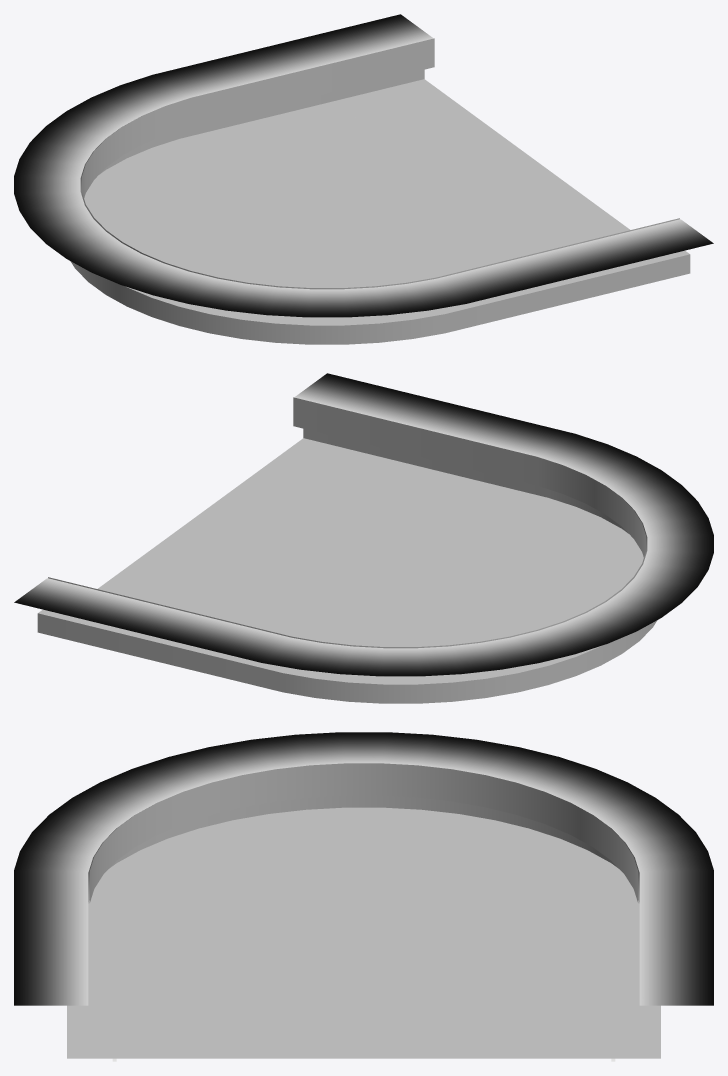
The model's file is CeilingCenter01_2.FBX.
3 views of the same model, one above another, from view 1: azimuth 30°, elevation 25°; view 2: azimuth 150°, elevation 25°; view 3: azimuth 270°, elevation 25° (orthographic). The views are drawn at different scales.
Visible parts, largest first — view 1: Ceiling, Backlight; view 2: Ceiling, Backlight; view 3: Ceiling, Backlight.
Boxes of the visible parts, <box> form: Ceiling: <box>70,38,690,344</box>; Backlight: <box>14,14,713,317</box>; Ceiling: <box>37,397,657,703</box>; Backlight: <box>14,373,713,676</box>; Ceiling: <box>67,763,660,1058</box>; Backlight: <box>14,732,713,1005</box>.
Size of the model in its own units: 272 by 26.5 by 295.
